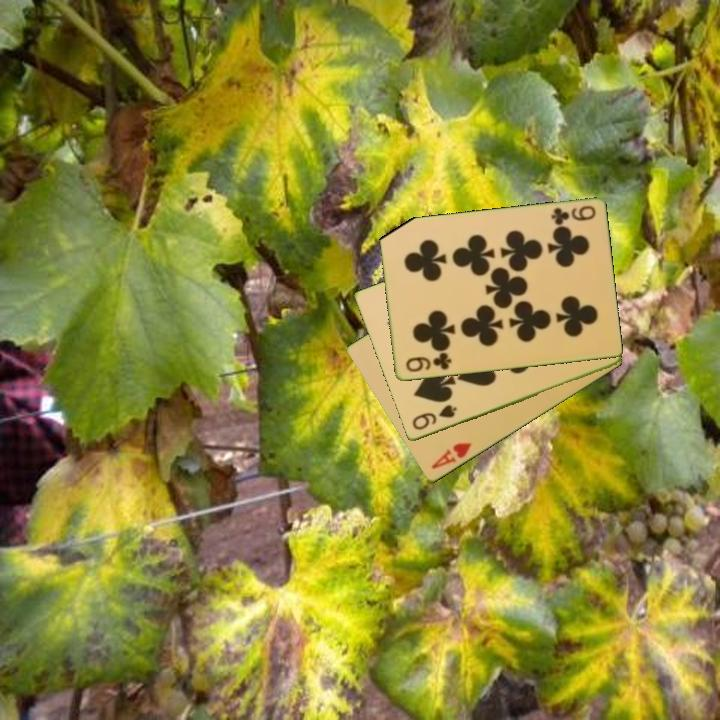9c: (547, 202, 598, 228), (402, 350, 454, 375)
9s: (408, 401, 460, 433)
Ah: (428, 439, 474, 472)
